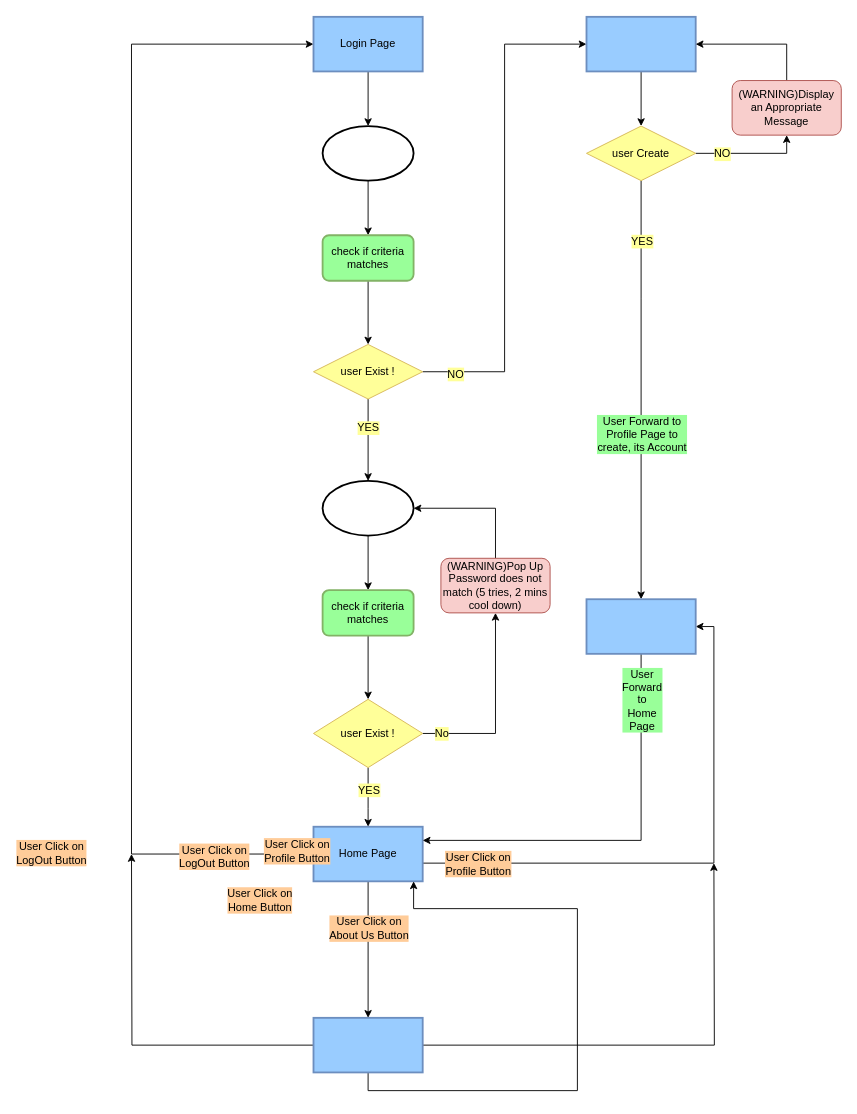
This 857x1114 diagram has some shape labels left out. The centre of each missing label's shape, as x and y in pixels:
"About Us" goes at (367,1044).
"Profile Page" goes at (640,626).
"Sign Up Page (login page with some extra fields)" goes at (640,43).
"user enter gmail/username" goes at (367,153).
"user enter password" goes at (367,508).
